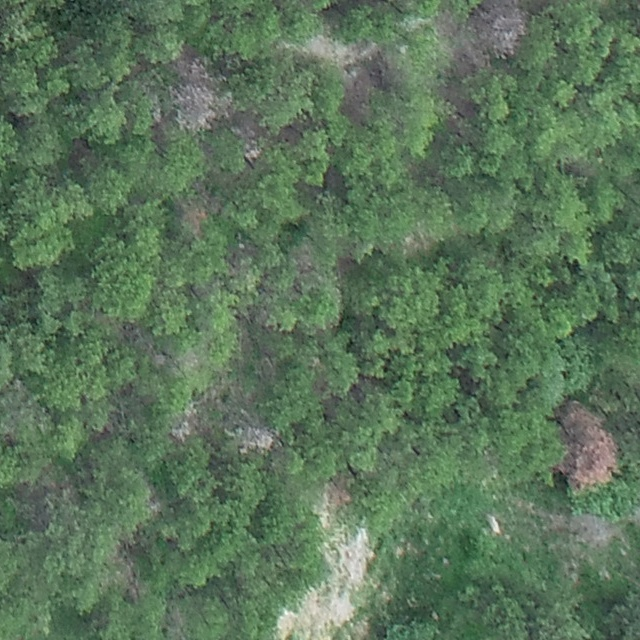unhealthy: (555, 400, 620, 488), (477, 0, 527, 58), (169, 81, 222, 130), (111, 533, 145, 599), (341, 66, 377, 113), (167, 402, 204, 445), (174, 196, 208, 236), (173, 51, 215, 81), (238, 425, 281, 454), (452, 43, 486, 71), (243, 143, 264, 163)
